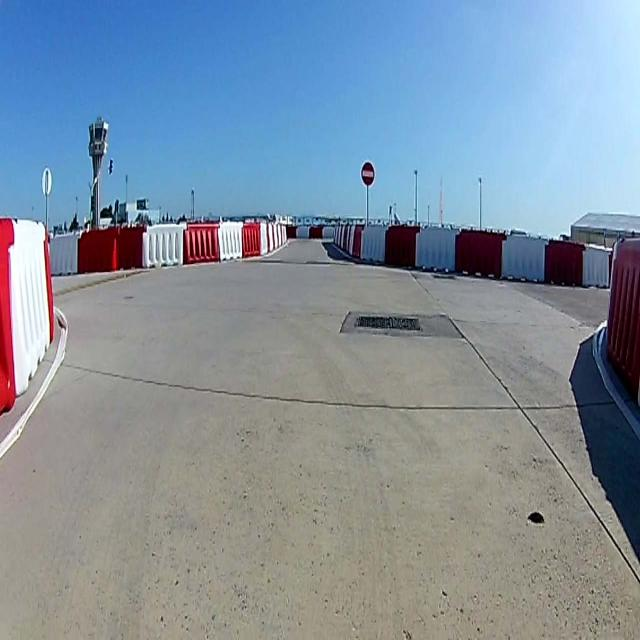girisyok: (361, 162, 375, 186)
